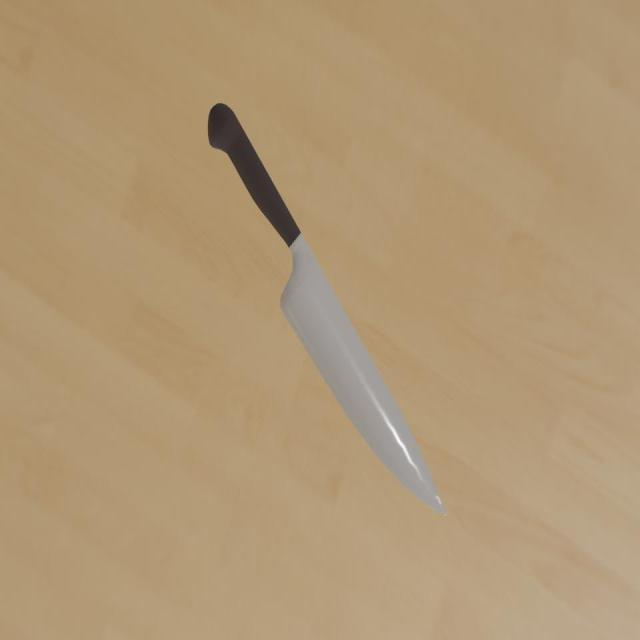knife: (208, 104, 301, 252)
